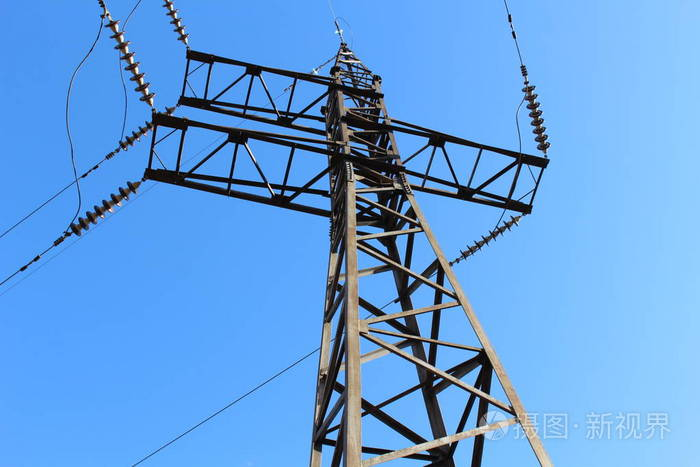insulator: (104, 20, 157, 102), (69, 180, 138, 237), (460, 217, 518, 261), (521, 83, 551, 150), (163, 1, 192, 41), (116, 122, 152, 152)
